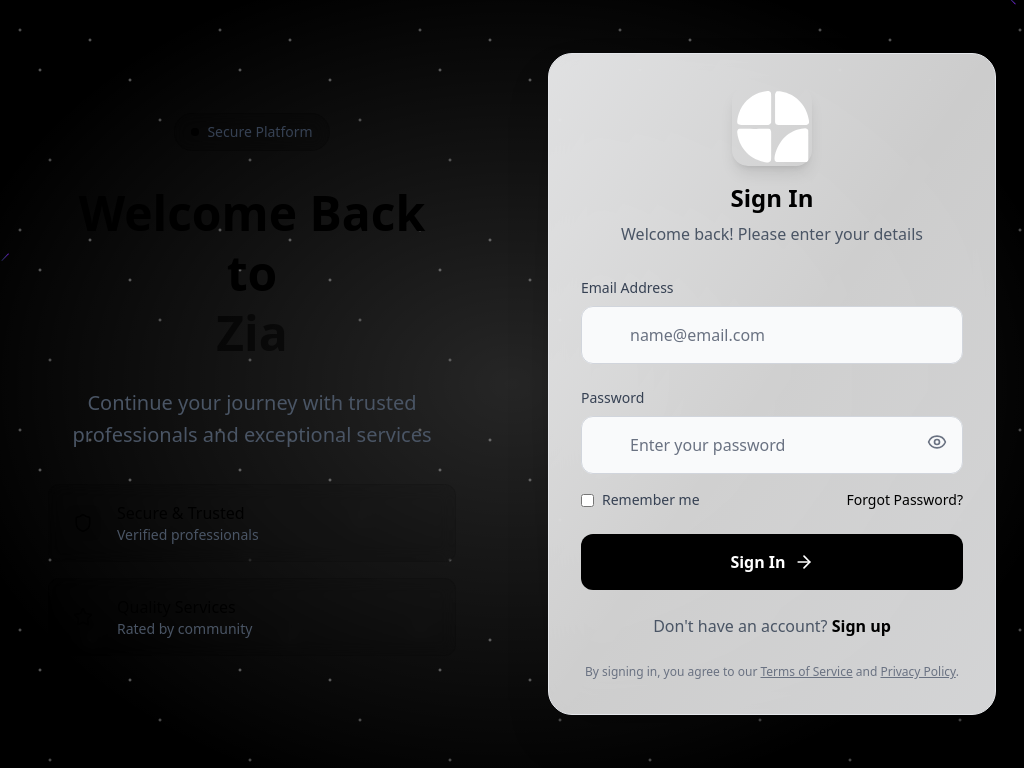
Test: SignIn › handles login failure
The image size is (1024, 768).
In the field with placeholder "name@email.com": (772,335) [581, 306, 963, 364], type "test@example.com"
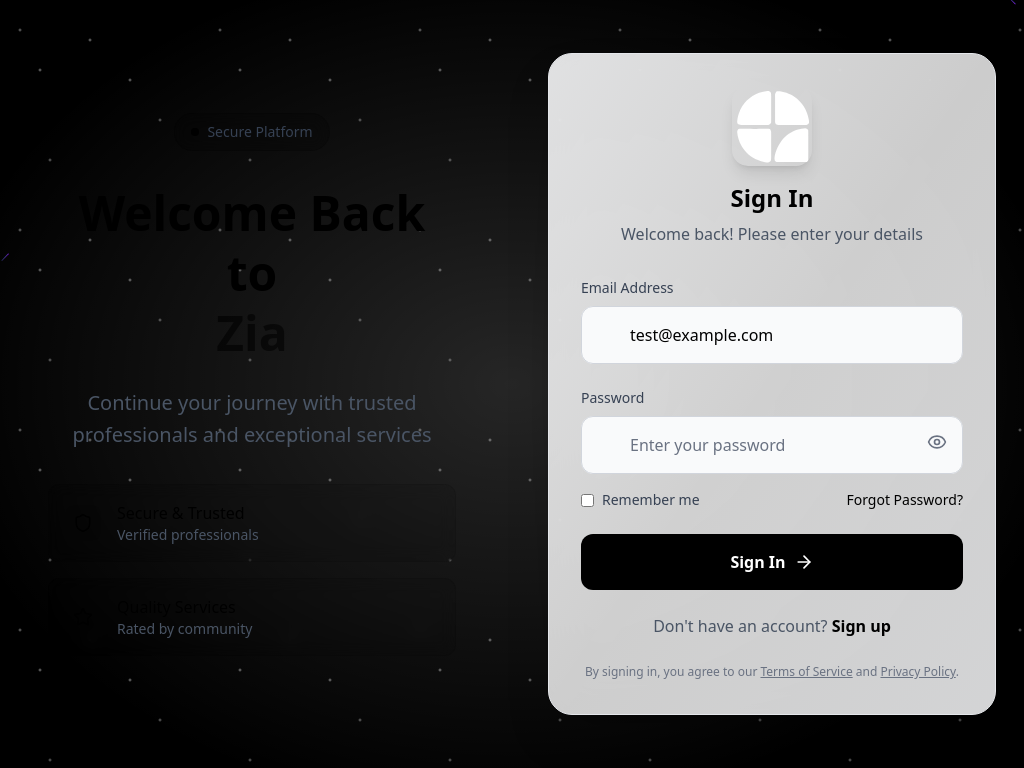
In the password field with placeholder "Enter your password": (772,445) [581, 416, 963, 474], type "wrongpassword"
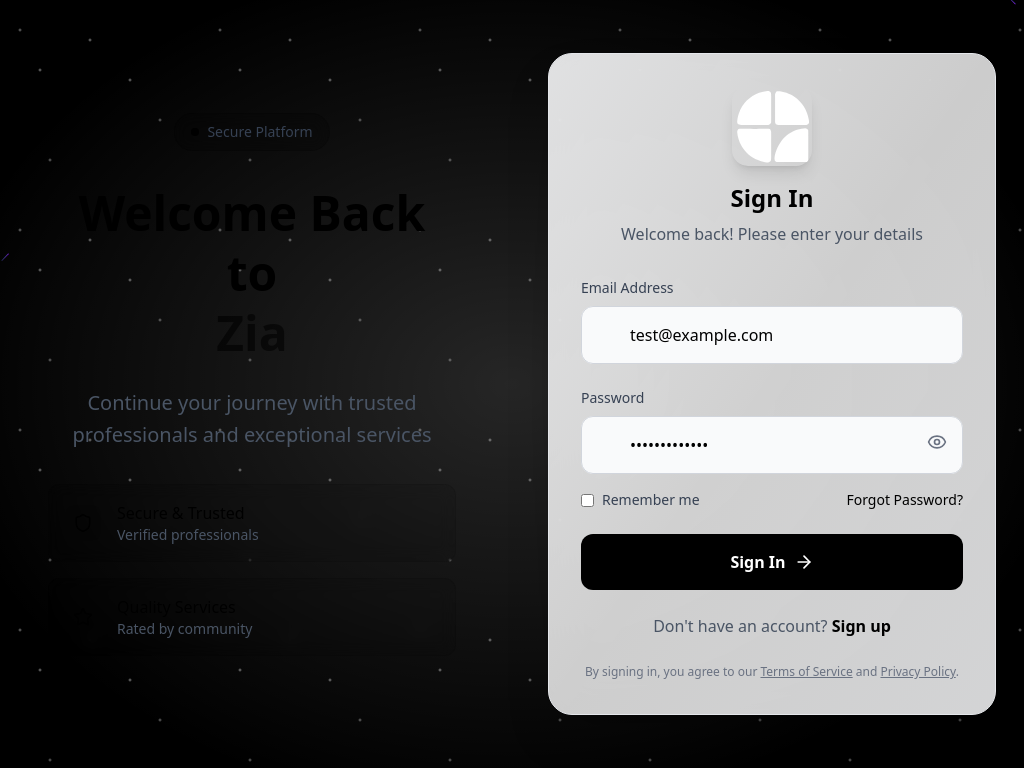
Click the button "Sign In": (772,562) [581, 534, 963, 590]
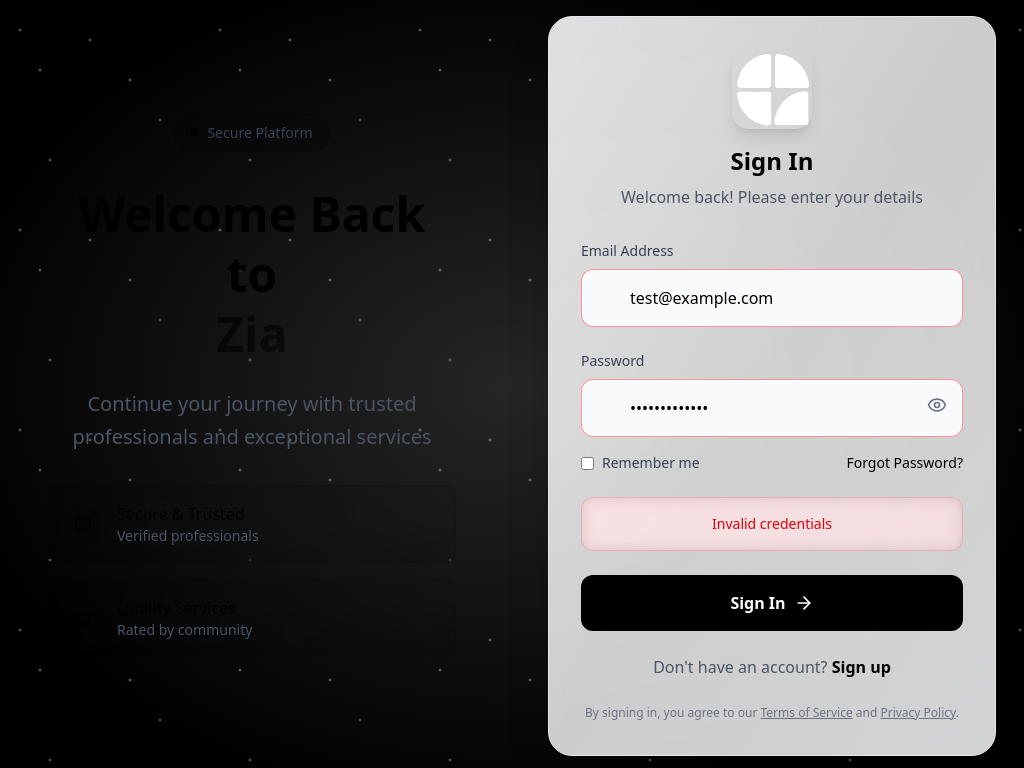
Check: the text "Invalid credentials" is shown, box [712, 514, 832, 533]
